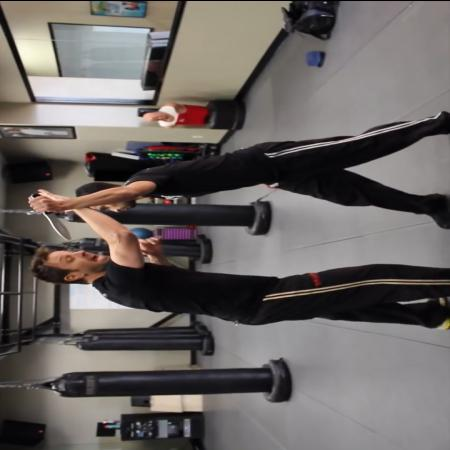long weapon: (24, 190, 72, 240)
